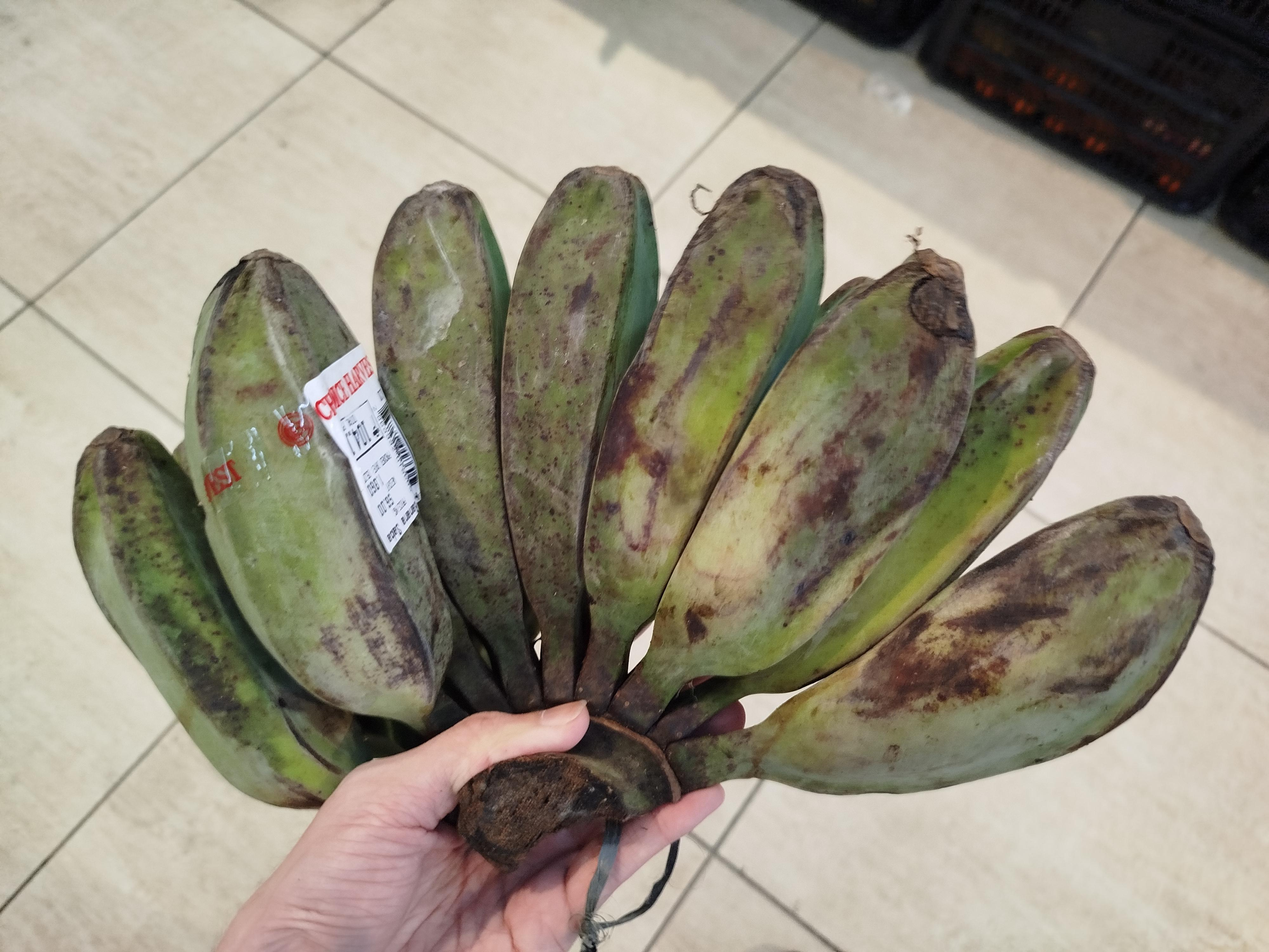underripe: (73, 166, 1214, 808)
